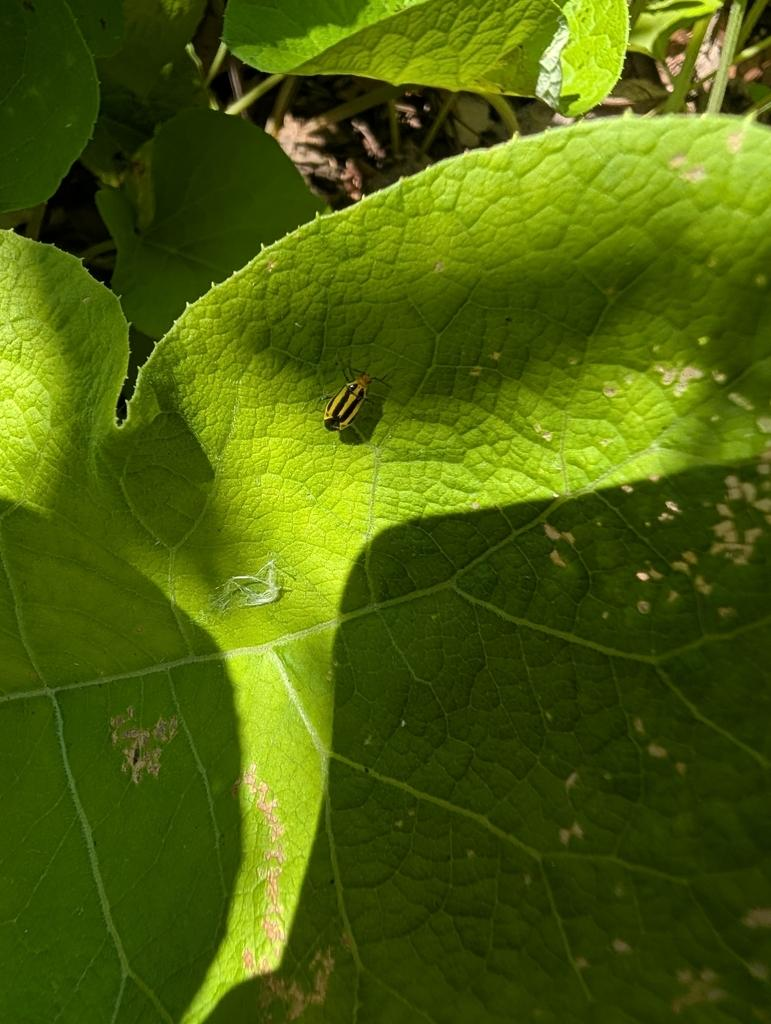plant_bugs: (306, 349, 396, 453)
